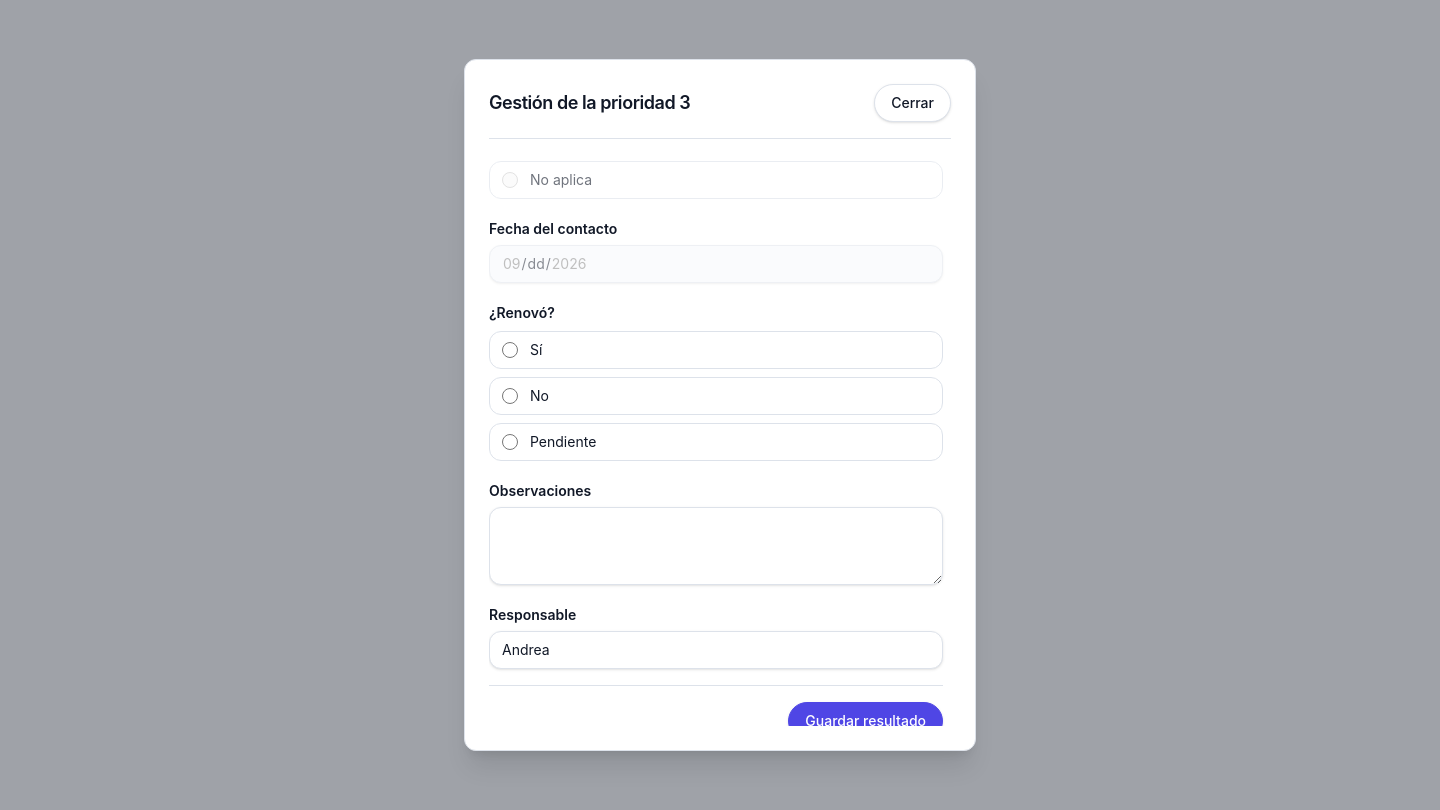
Test: FormularioGestion › parte 2: resultado de una gestion pendiente › "Fecha de seguimiento" solo visible con Renovó = Pendiente
(page scrolled)
Expected: the field labelled "Fecha de seguimiento" is not shown
Click the radio button labelled "Pendiente".
click(510, 442)  # box x1=502 y1=434 x2=518 y2=450
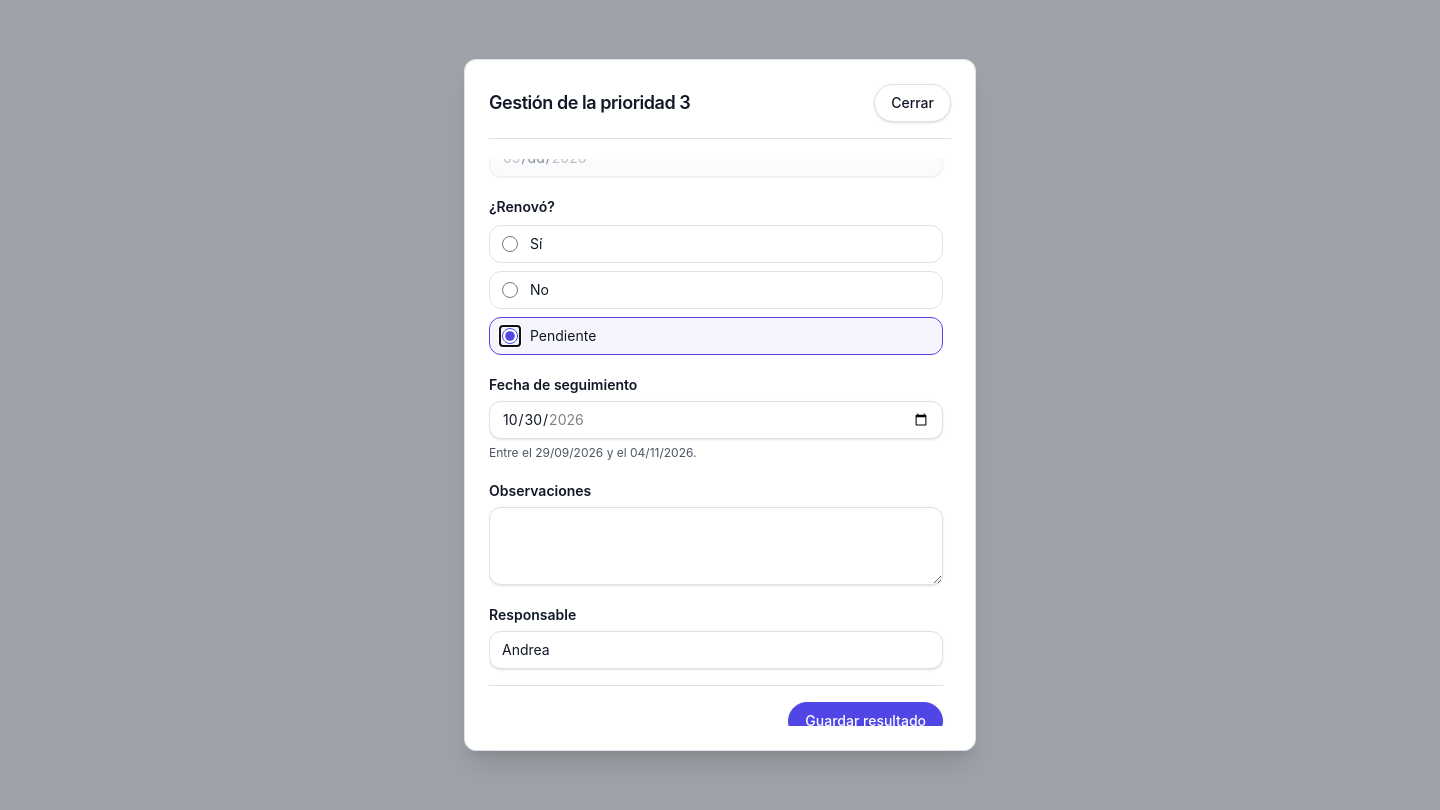
Expected: the date field labelled "Fecha de seguimiento" holds "2026-10-30", x1=489 y1=401 x2=943 y2=439
Click the radio button labelled "No".
click(510, 290)  # box x1=502 y1=282 x2=518 y2=298
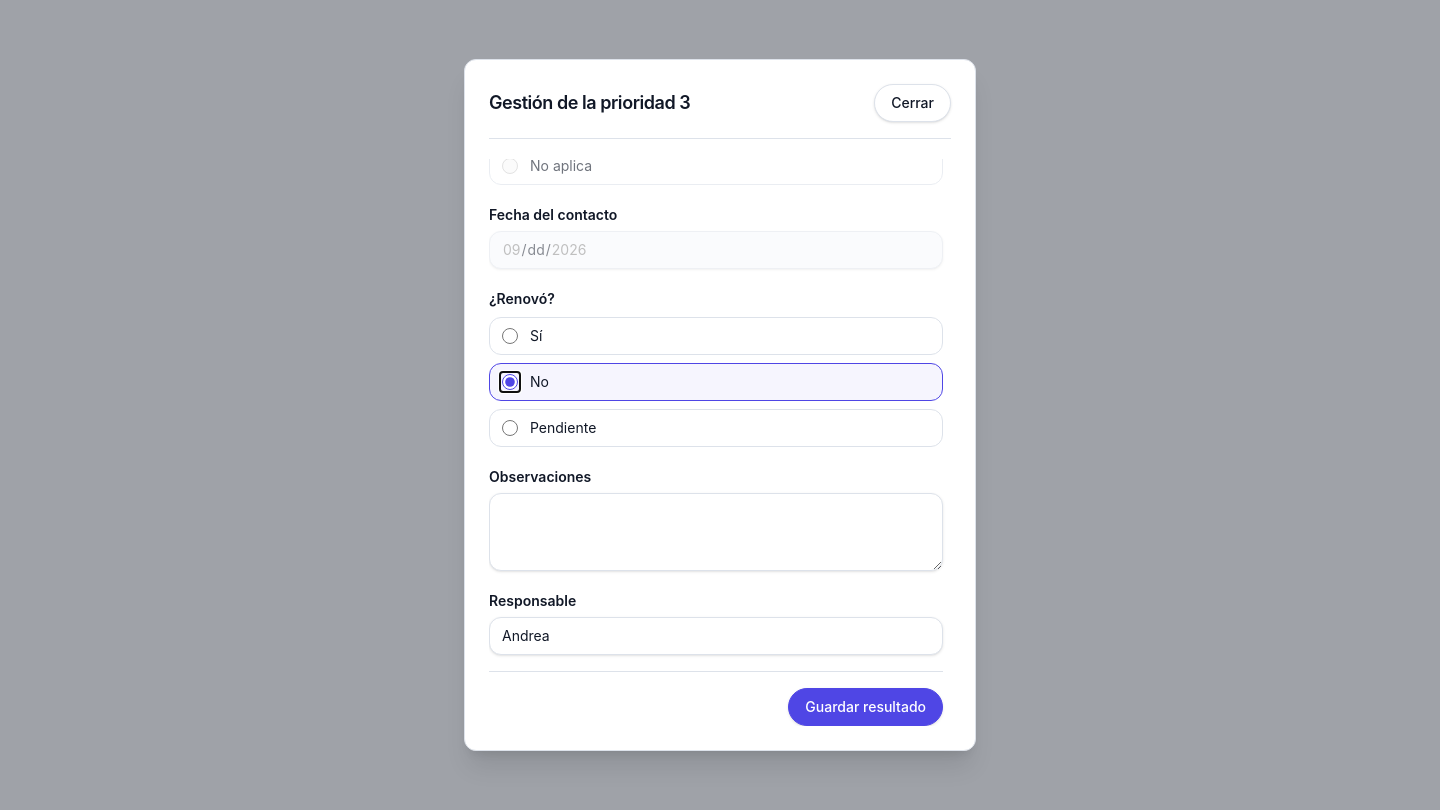
Expected: the label labelled "Fecha de seguimiento" is gone
